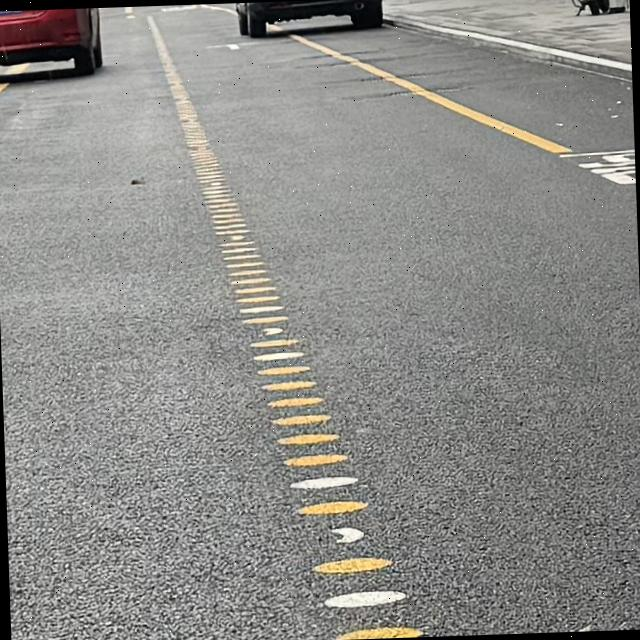curb: (386, 15, 631, 78)
